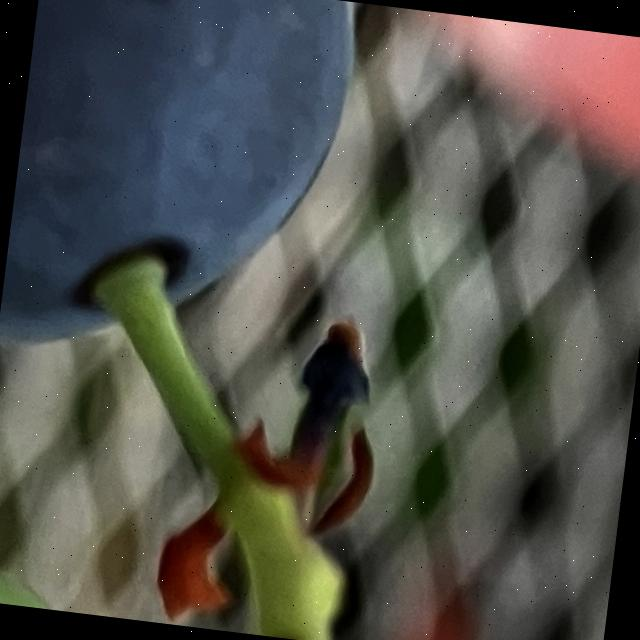Blueberries: (0, 0, 350, 381)
